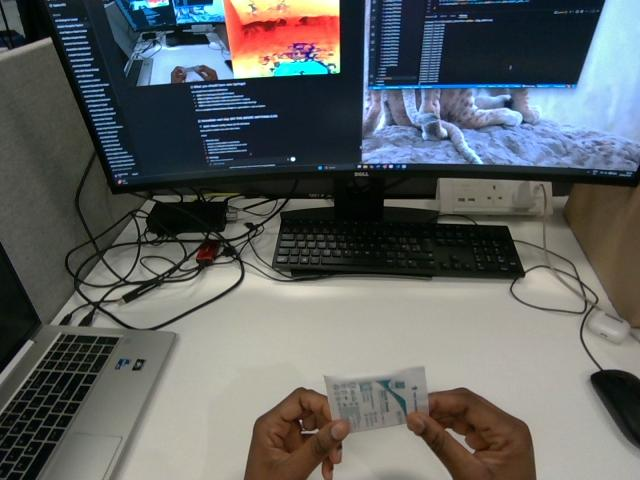gauze: (324, 367, 428, 431)
